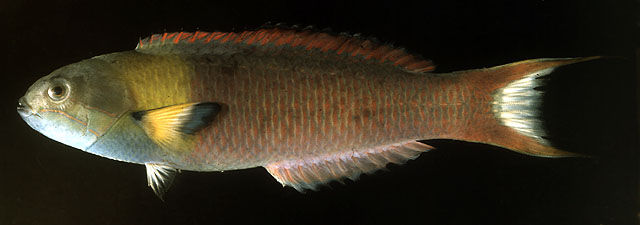fish: (15, 24, 600, 202)
